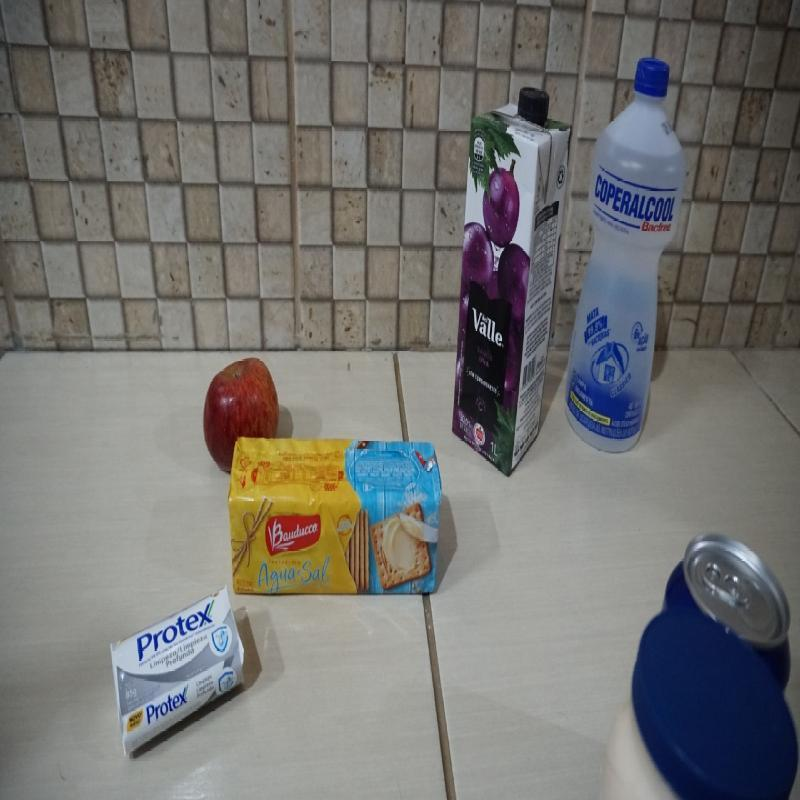Alcohol Bottle: (564, 55, 687, 455)
Apple: (204, 357, 282, 476)
Cracker: (228, 436, 444, 598)
Mayonnaise: (608, 608, 796, 799)
Soap: (110, 585, 244, 757)
Soda can: (660, 529, 792, 692)
